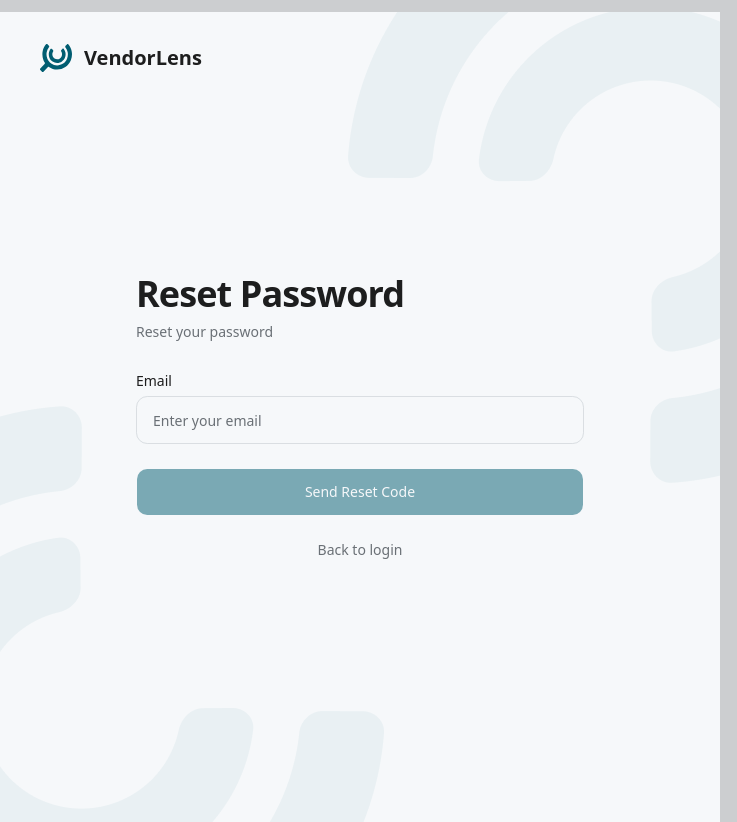
Test case: ForgotPasswordPage › Step 1 - email › shows a server error and stays on this step on failure
Type "user@example.com" into the field with test id "email-input" at (360, 420), box [136, 396, 584, 444]
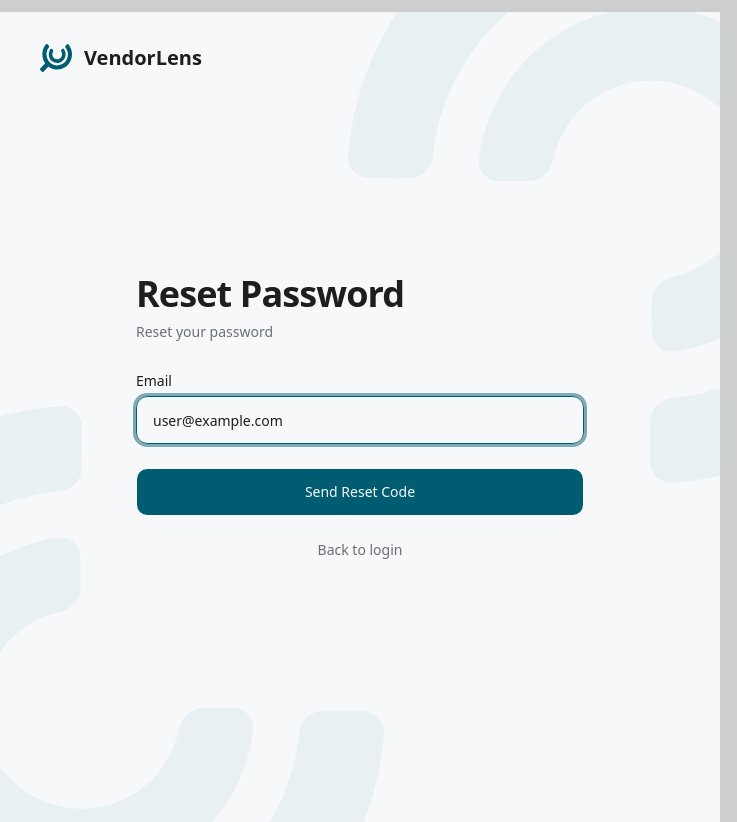
Click the button "Send Reset Code" at (360, 492), box [136, 468, 584, 516]
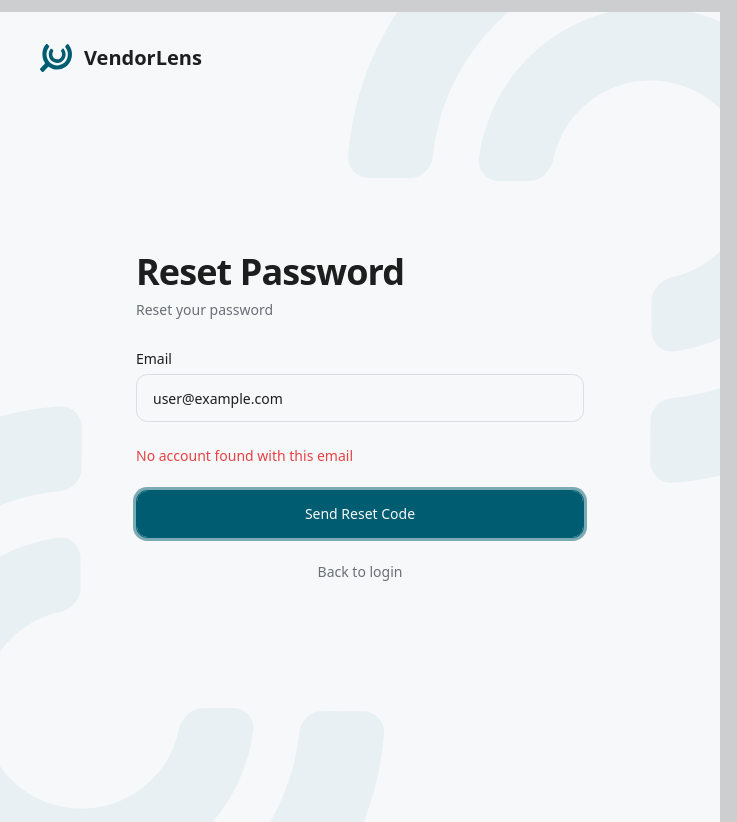
Expected: the text "No account found with this email" is shown, [136, 446, 353, 465]
